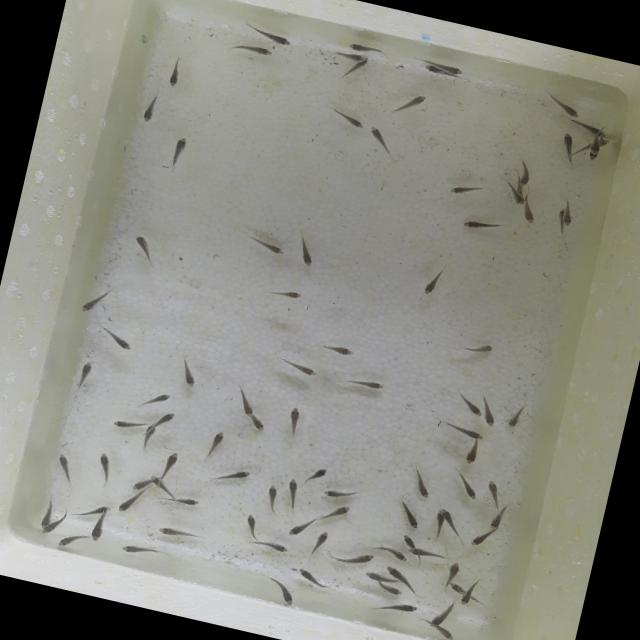fingerling: (310, 497, 357, 529), (327, 105, 372, 134), (386, 496, 425, 528), (542, 90, 581, 122), (251, 22, 295, 49), (124, 232, 164, 260), (382, 562, 418, 592), (268, 572, 298, 607), (334, 546, 374, 572), (444, 176, 481, 204), (110, 488, 144, 518), (68, 357, 97, 392), (344, 373, 390, 395), (229, 39, 275, 61), (49, 446, 80, 478), (76, 288, 108, 319), (100, 328, 138, 354), (442, 422, 491, 442), (377, 597, 419, 620), (88, 448, 116, 482), (154, 522, 197, 544), (448, 474, 481, 502), (480, 476, 508, 509), (167, 129, 190, 169), (281, 404, 307, 439), (315, 482, 356, 504), (281, 357, 322, 379), (459, 212, 498, 235), (156, 448, 184, 480), (291, 239, 319, 271), (202, 426, 229, 459), (41, 512, 70, 542), (83, 516, 113, 544), (408, 468, 436, 498), (474, 398, 502, 428), (172, 362, 203, 389), (424, 600, 450, 632), (556, 129, 582, 161), (254, 234, 288, 258), (291, 564, 326, 587), (280, 476, 304, 509), (258, 480, 281, 514), (282, 516, 312, 542), (398, 90, 428, 116), (376, 542, 410, 564), (322, 339, 356, 361), (503, 403, 527, 434), (138, 94, 162, 125), (54, 526, 80, 554), (220, 464, 252, 486), (366, 124, 392, 151), (418, 270, 442, 299), (118, 540, 154, 559), (486, 507, 511, 534), (458, 394, 486, 418), (253, 536, 290, 554), (407, 544, 440, 564), (108, 412, 138, 434), (144, 388, 176, 408), (466, 338, 498, 358), (32, 502, 54, 531), (147, 475, 176, 497), (514, 160, 535, 190), (308, 528, 332, 554), (517, 201, 541, 227), (154, 406, 182, 428), (163, 60, 184, 89), (468, 529, 494, 552), (234, 392, 257, 418), (138, 421, 158, 450), (361, 568, 393, 586), (81, 502, 113, 520), (459, 578, 478, 607), (442, 558, 463, 584), (461, 443, 482, 469), (346, 40, 380, 56), (334, 47, 366, 64), (240, 511, 260, 538), (275, 285, 305, 303), (304, 464, 329, 484), (434, 60, 464, 76), (576, 120, 606, 136), (169, 494, 200, 509), (128, 476, 152, 494), (561, 200, 577, 227), (586, 133, 604, 156), (246, 419, 270, 435), (379, 584, 406, 598), (432, 624, 454, 640), (436, 506, 458, 522), (397, 534, 421, 548), (430, 517, 446, 537), (446, 581, 466, 594), (508, 190, 526, 204), (422, 63, 440, 76)
